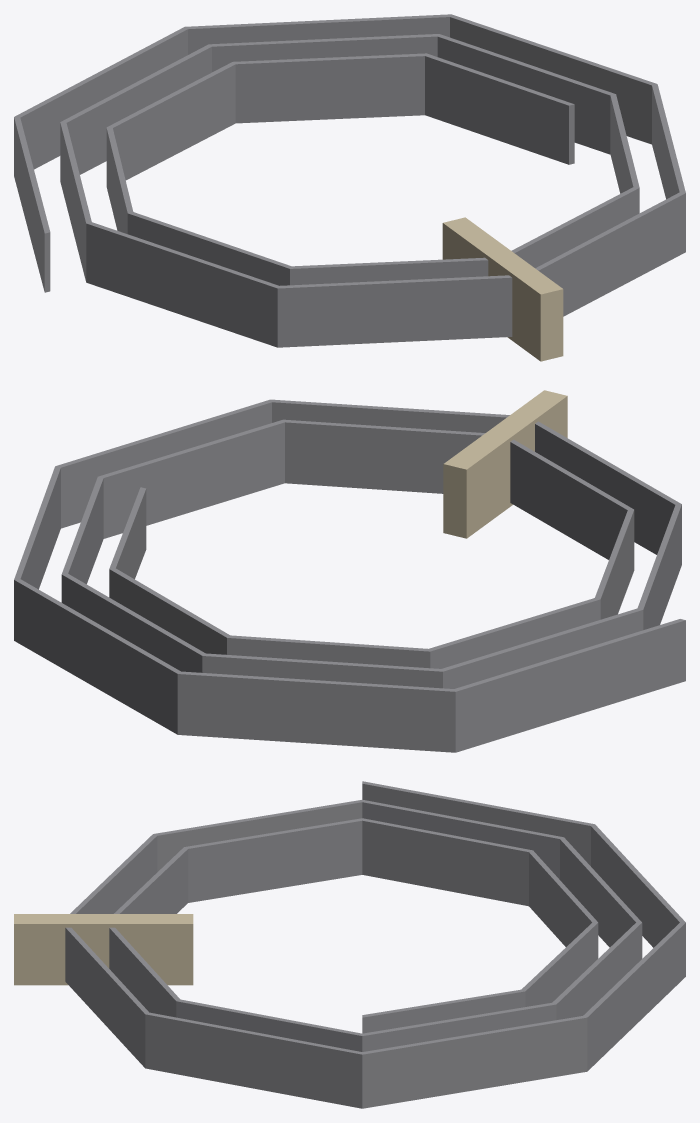
Rendered from prop-rim-iron-coil.fbx.
3 views of the same model, one above another, from view 1: azimuth 30°, elevation 25°; view 2: azimuth 150°, elevation 25°; view 3: azimuth 270°, elevation 25° (orthographic). The views are drawn at different scales.
Visible parts, largest first — view 1: prop-rim-iron-coil; view 2: prop-rim-iron-coil; view 3: prop-rim-iron-coil.
Boxes of the visible parts, box(x1,y1,x2,y2) form: prop-rim-iron-coil: box(14, 14, 685, 361); prop-rim-iron-coil: box(14, 390, 685, 752); prop-rim-iron-coil: box(14, 781, 685, 1108).
Bounding box in the file's own units: 32.5 × 3.4 × 33.75.
